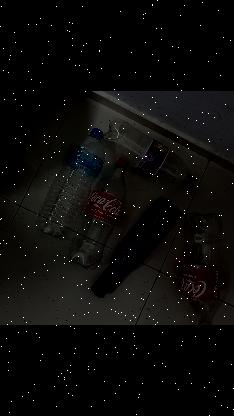Plastic Bottle: (181, 210, 228, 325), (142, 153, 206, 193), (57, 126, 103, 178), (29, 187, 75, 237), (108, 156, 130, 233)
